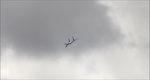maybay_muctieu: (63, 33, 78, 49)
